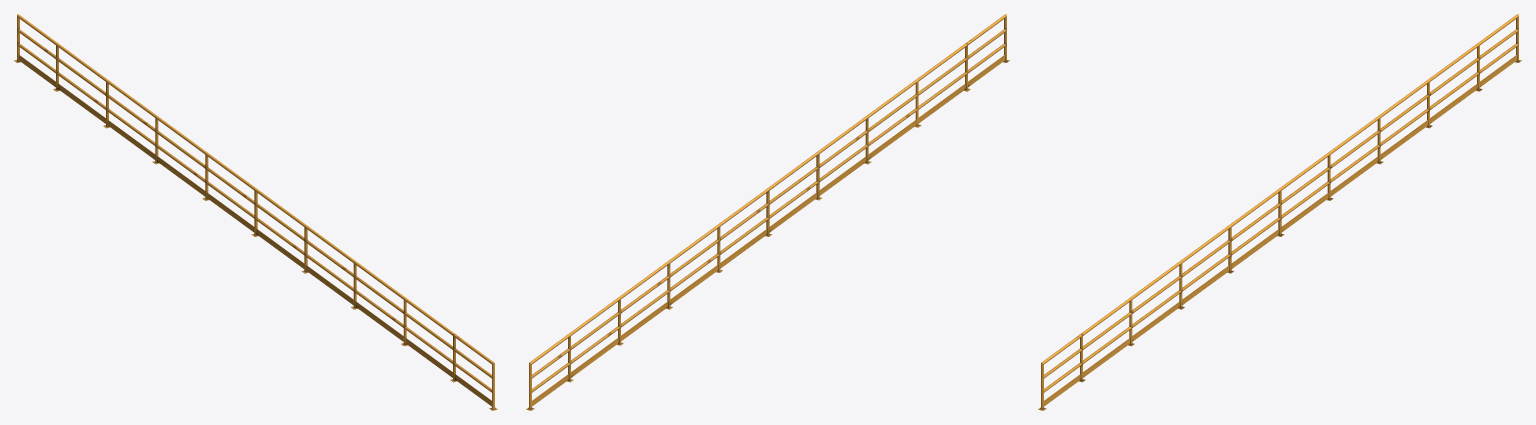
3 renders of one model, left to right at view 1: azimuth 30°, elevation 25°; view 2: azimuth 150°, elevation 25°; view 3: azimuth 330°, elevation 25°, orthographic.
Visible parts, largest first — view 1: body0_model0_lod0_mesh0; view 2: body0_model0_lod0_mesh0; view 3: body0_model0_lod0_mesh0.
Boxes of the visible parts, x1,y1,x2,y2 form: body0_model0_lod0_mesh0: (14,14,497,410); body0_model0_lod0_mesh0: (526,14,1009,410); body0_model0_lod0_mesh0: (1038,14,1521,410).
Size of the model in its own units: 4.03 by 33.02 by 612.
1 material, 1 textured.
